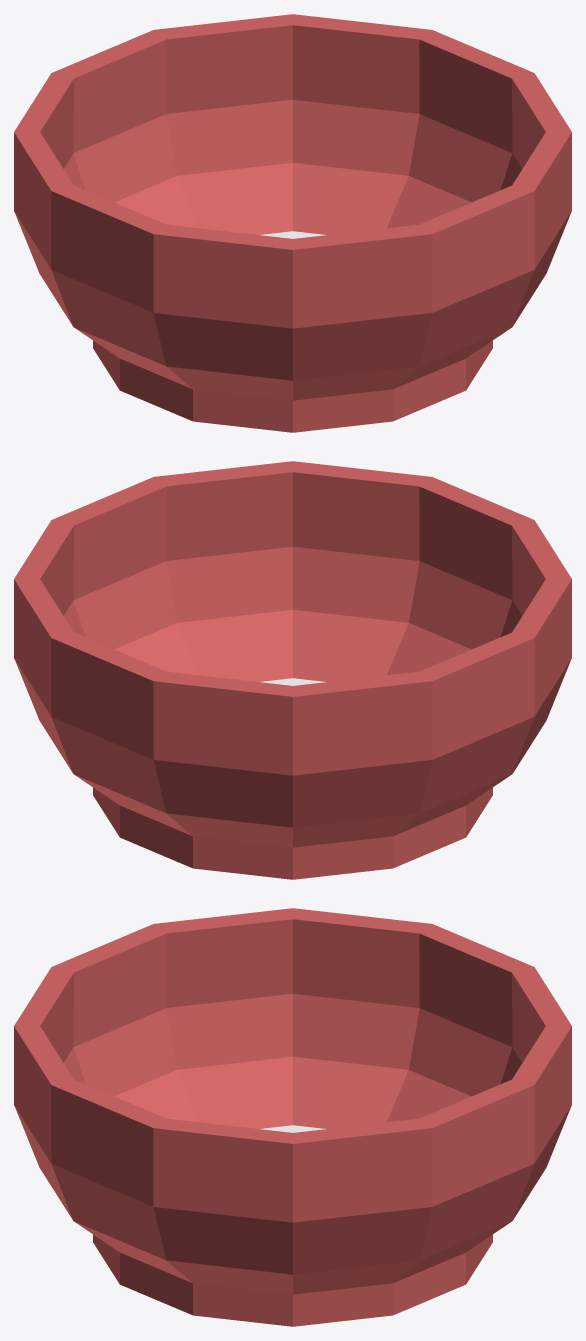
The model's file is plate_big.fbx.
3 renders of one model, top to bottom at view 1: azimuth 30°, elevation 25°; view 2: azimuth 150°, elevation 25°; view 3: azimuth 270°, elevation 25°, orthographic.
Parts seen in each view (by area): view 1: Circle; view 2: Circle; view 3: Circle.
Part boxes in pixels (bbox=[...]): Circle: bbox=[14, 14, 571, 432]; Circle: bbox=[14, 461, 571, 879]; Circle: bbox=[14, 908, 571, 1326].
Size of the model in its own units: 107 by 45.71 by 107.
2 materials, 1 textured.
